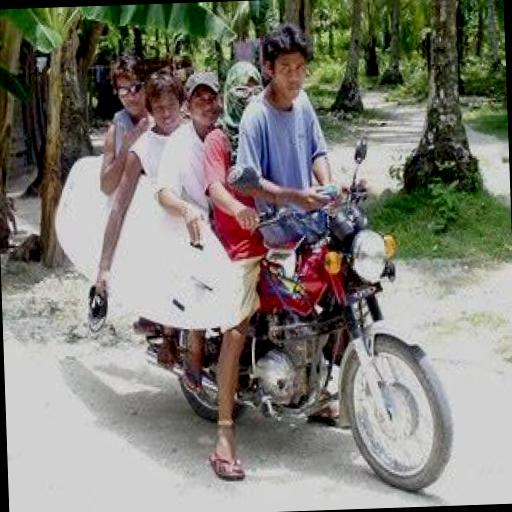no helmet: (249, 20, 341, 144)
triple riding: (84, 4, 476, 506)
